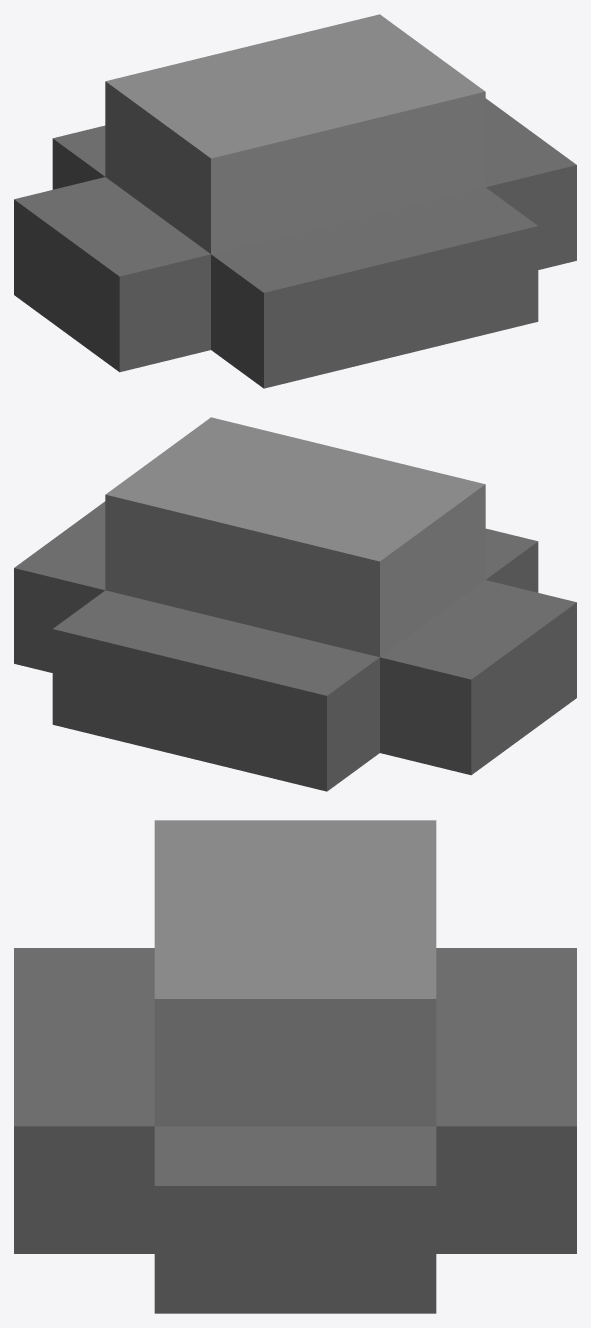
Rendered from Stones-2.obj.
3 views of the same model, one above another, from view 1: azimuth 30°, elevation 25°; view 2: azimuth 150°, elevation 25°; view 3: azimuth 270°, elevation 25° (orthographic). The views are drawn at different scales.
Bounding box in the file's own units: 0.5 × 0.2 × 0.4.
Materials: 1 (1 with a texture image).
